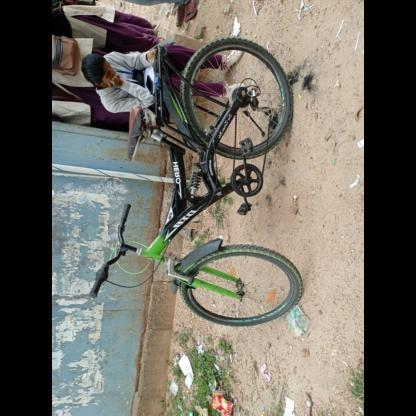Bicycle: (87, 38, 316, 354)
